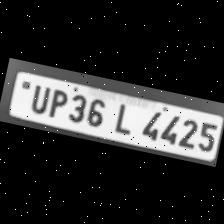2: (173, 113, 198, 148)
3: (62, 89, 89, 124)
4: (134, 105, 165, 142), (156, 109, 180, 145)
5: (192, 118, 218, 154)
6: (81, 94, 110, 129)
L: (106, 97, 139, 136)
P: (43, 85, 70, 120)
U: (25, 80, 52, 114)
